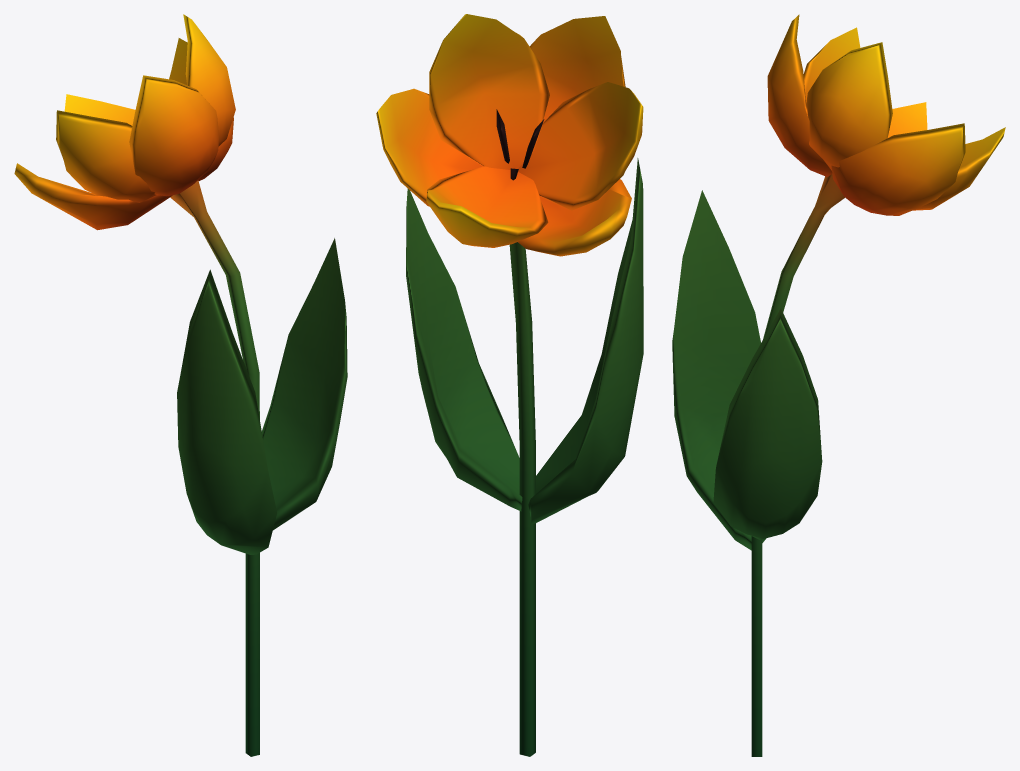
File: Tulip.fbx
3 renders of one model, left to right at view 1: azimuth 30°, elevation 25°; view 2: azimuth 150°, elevation 25°; view 3: azimuth 270°, elevation 25°, orthographic. The views are drawn at different scales.
Visible parts, largest first — view 1: Tulip:Group41058; view 2: Tulip:Group41058; view 3: Tulip:Group41058.
Part boxes in pixels (x1,y1,x2,y2): Tulip:Group41058: (14,14,347,756); Tulip:Group41058: (376,14,643,756); Tulip:Group41058: (672,14,1005,756).
Size of the model in its own units: 3.42 by 9.02 by 3.85.
